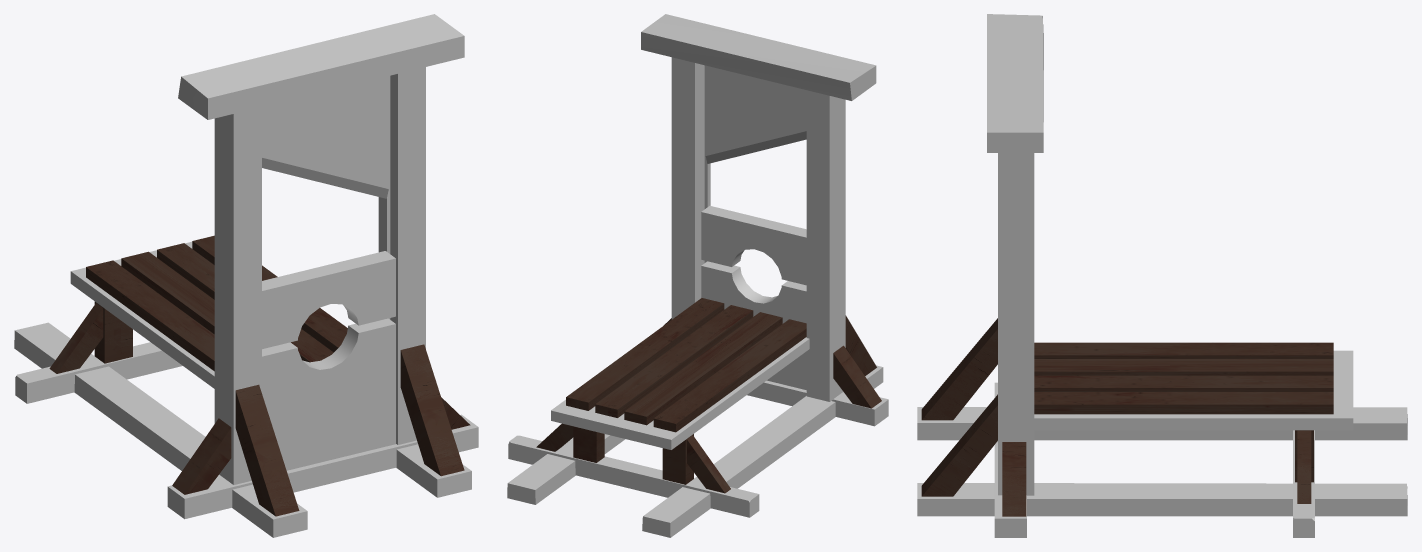
File: Torture_Guillotine.fbx
3 renders of one model, left to right at view 1: azimuth 30°, elevation 25°; view 2: azimuth 150°, elevation 25°; view 3: azimuth 270°, elevation 25°, orthographic. The views are drawn at different scales.
Visible parts, largest first — view 1: Torture_Guillotine; view 2: Torture_Guillotine; view 3: Torture_Guillotine.
Part boxes in pixels (box(x1,y1,x2,y2)): Torture_Guillotine: box(14, 14, 478, 537); Torture_Guillotine: box(507, 14, 888, 537); Torture_Guillotine: box(917, 14, 1407, 537).
Bounding box in the file's own units: 2.82 × 3.84 × 4.3.
